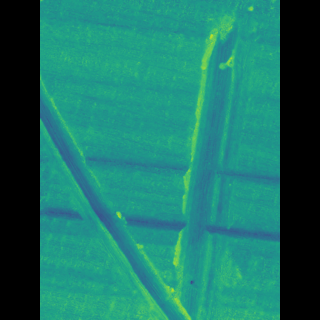Loch: (69, 69, 185, 320), (169, 7, 235, 319)
